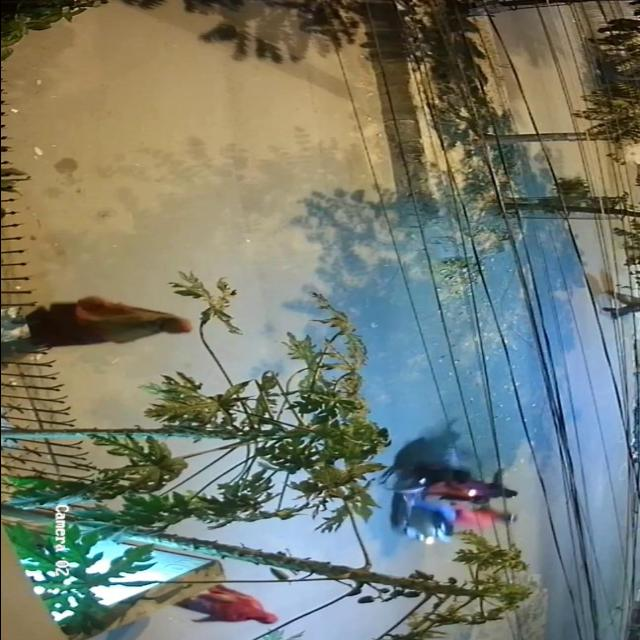accident: (377, 446, 526, 558)
